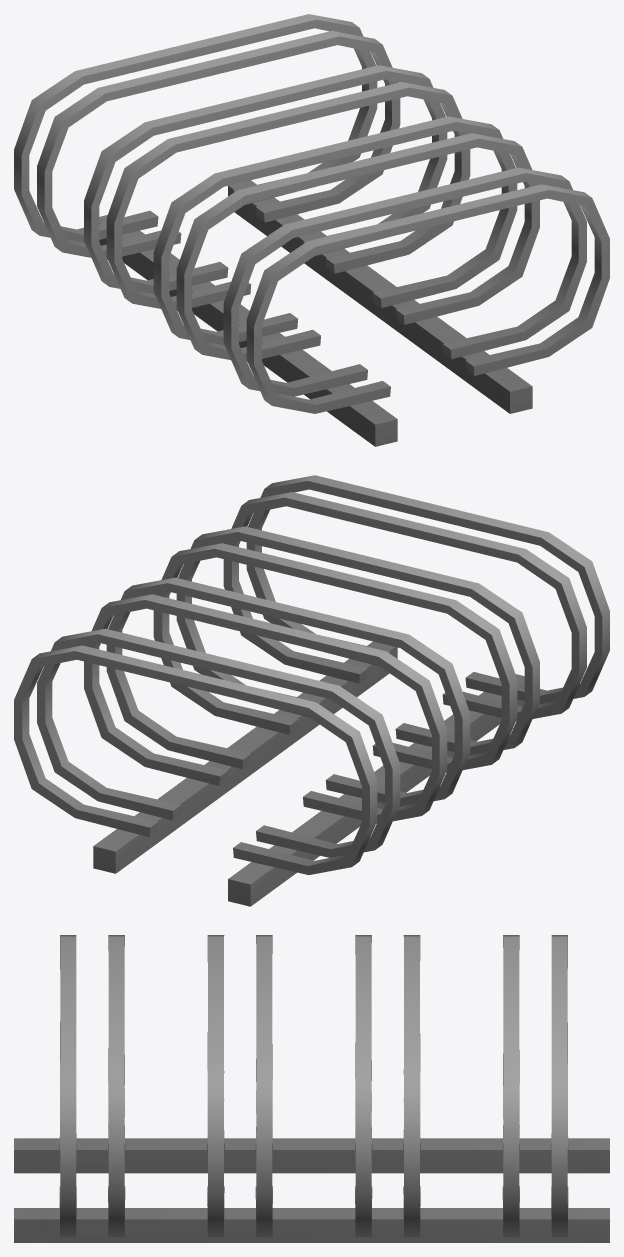
The model's file is bike-rack.glb.
3 renders of one model, top to bottom at view 1: azimuth 30°, elevation 25°; view 2: azimuth 150°, elevation 25°; view 3: azimuth 270°, elevation 25°, orthographic. The views are drawn at different scales.
Visible parts, largest first — view 1: bike_rack; view 2: bike_rack; view 3: bike_rack.
Part boxes in pixels (x1,y1,x2,y2): bike_rack: (14,14,609,446); bike_rack: (14,475,609,906); bike_rack: (14,935,609,1242).
Bounding box in the file's own units: 2.62 × 1.36 × 3.59.
Materials: 1 (1 with a texture image).
